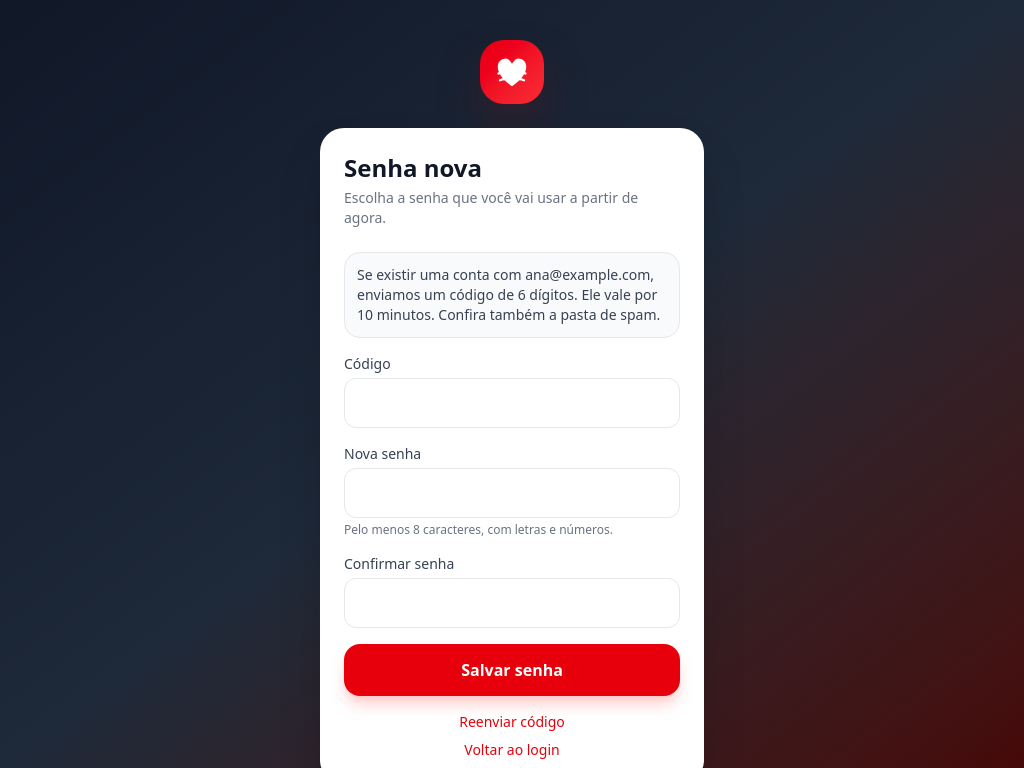
Test: ResetPasswordPage › o código precisa ter 6 dígitos
Type "12a4" into the field labelled "Código" at (512, 403), box [344,378,680,428]
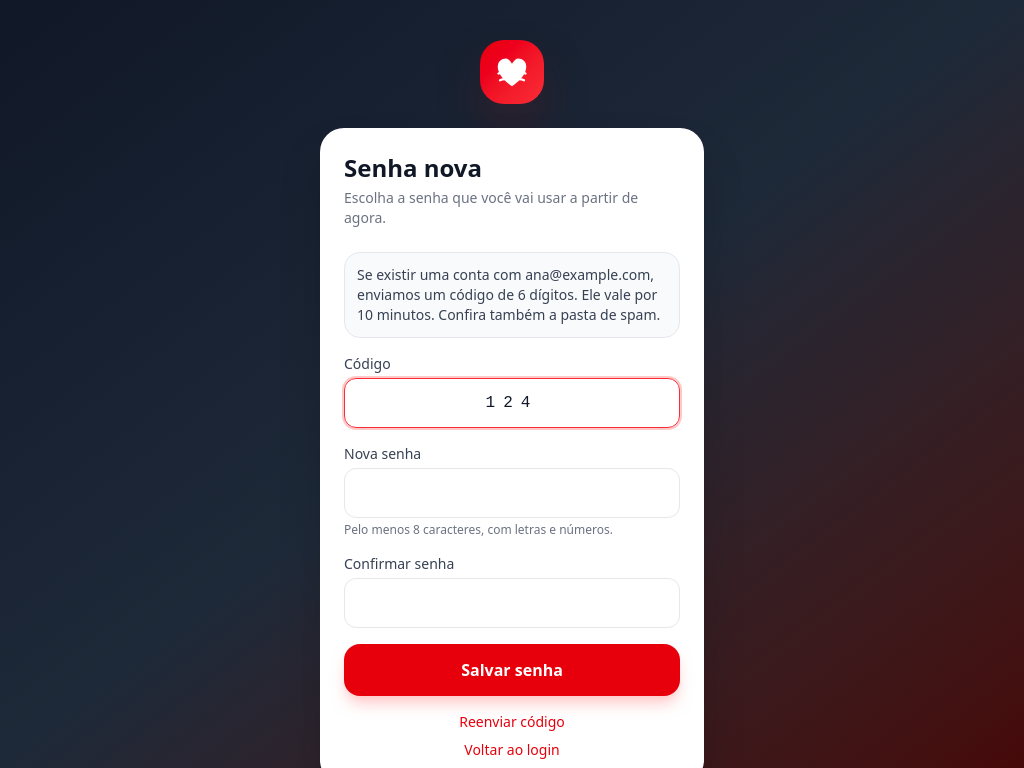
Type "frevo2026" into the password field labelled "Nova senha" at (512, 493), box [344,468,680,518]
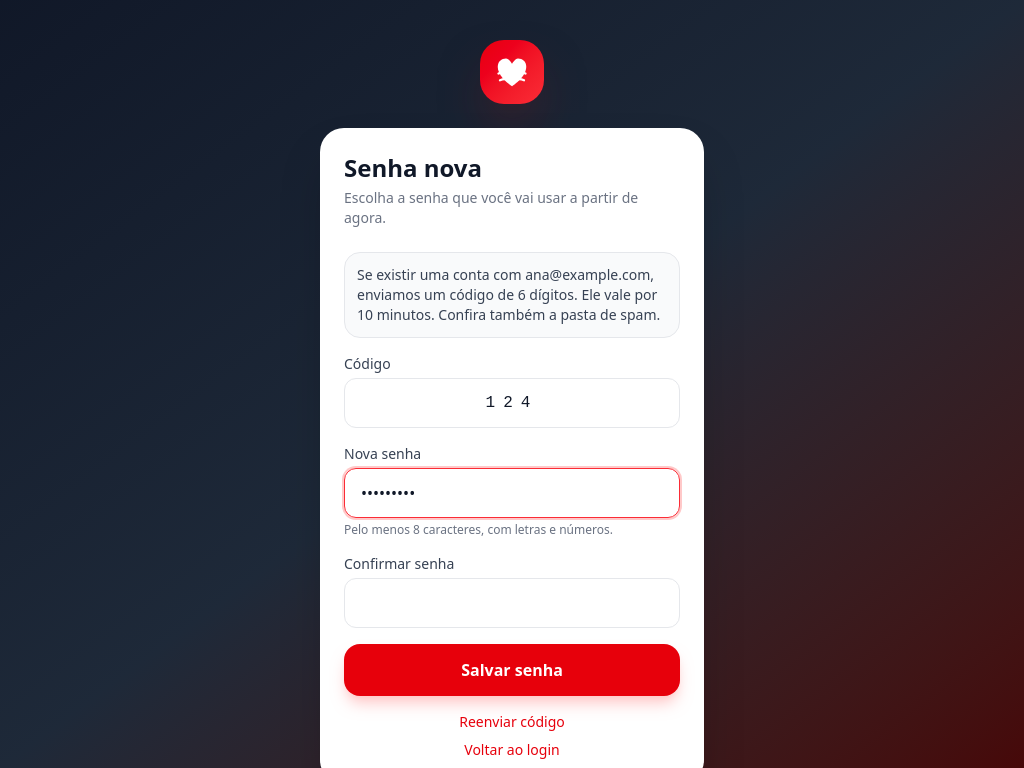
Type "frevo2026" into the password field labelled "Confirmar senha" at (512, 603), box [344,578,680,628]
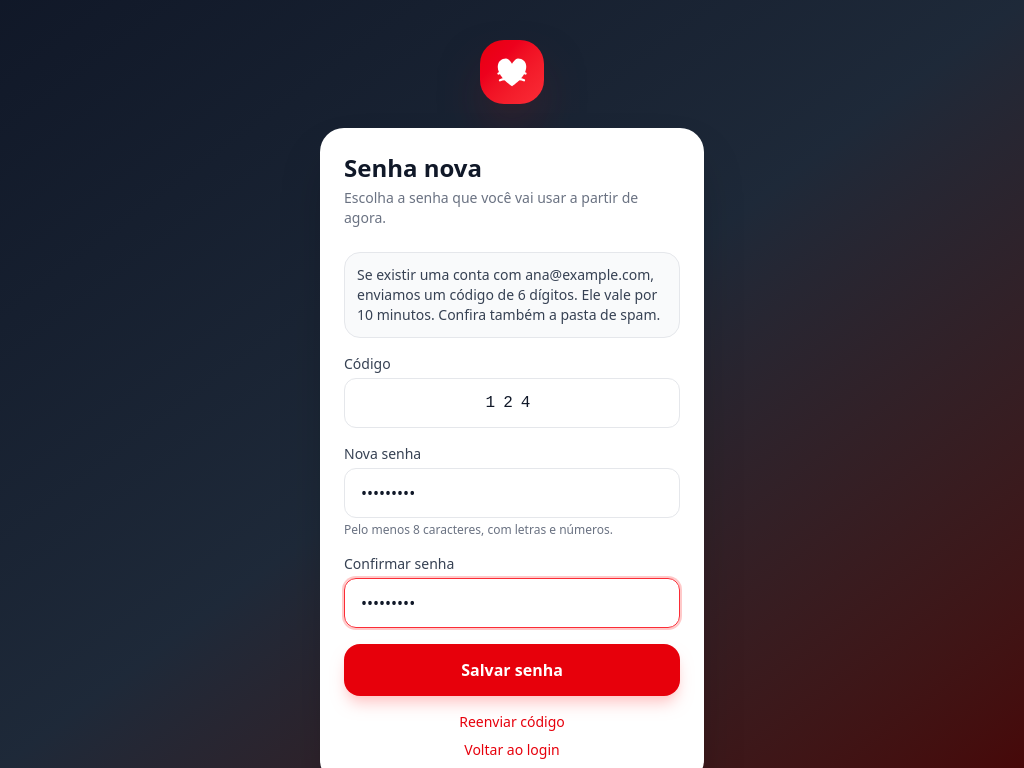
Click the button "Salvar senha" at (512, 670), box [344,644,680,696]
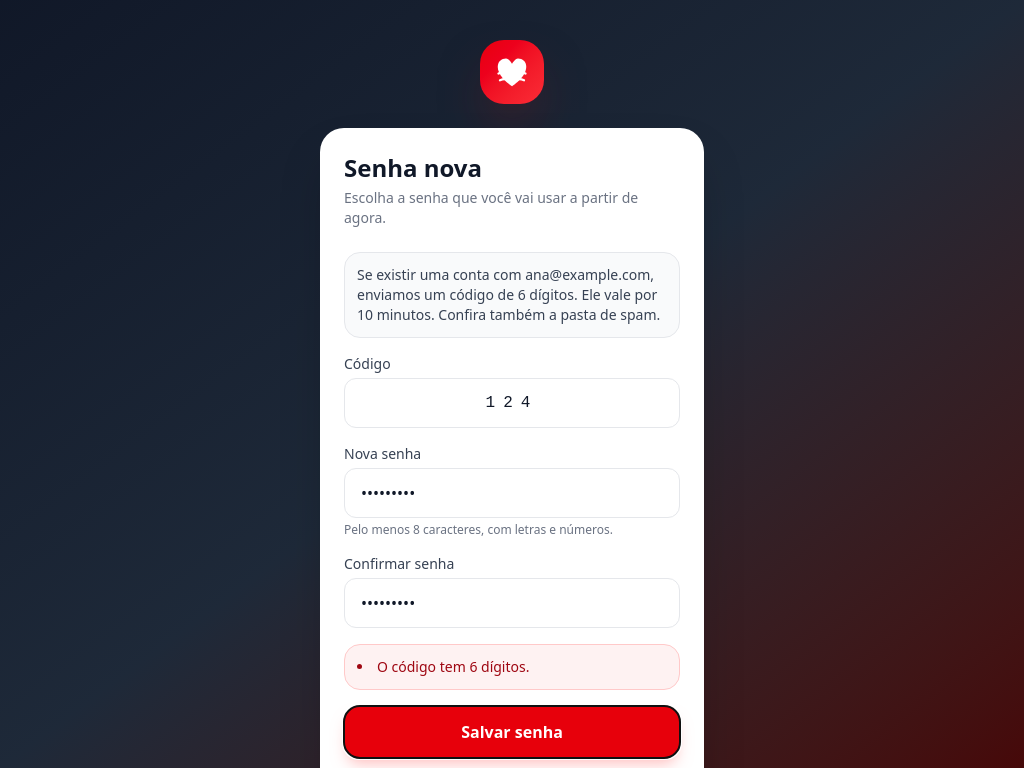
Expected: the list item "O código tem 6 dígitos." is shown, [377,657,530,676]
